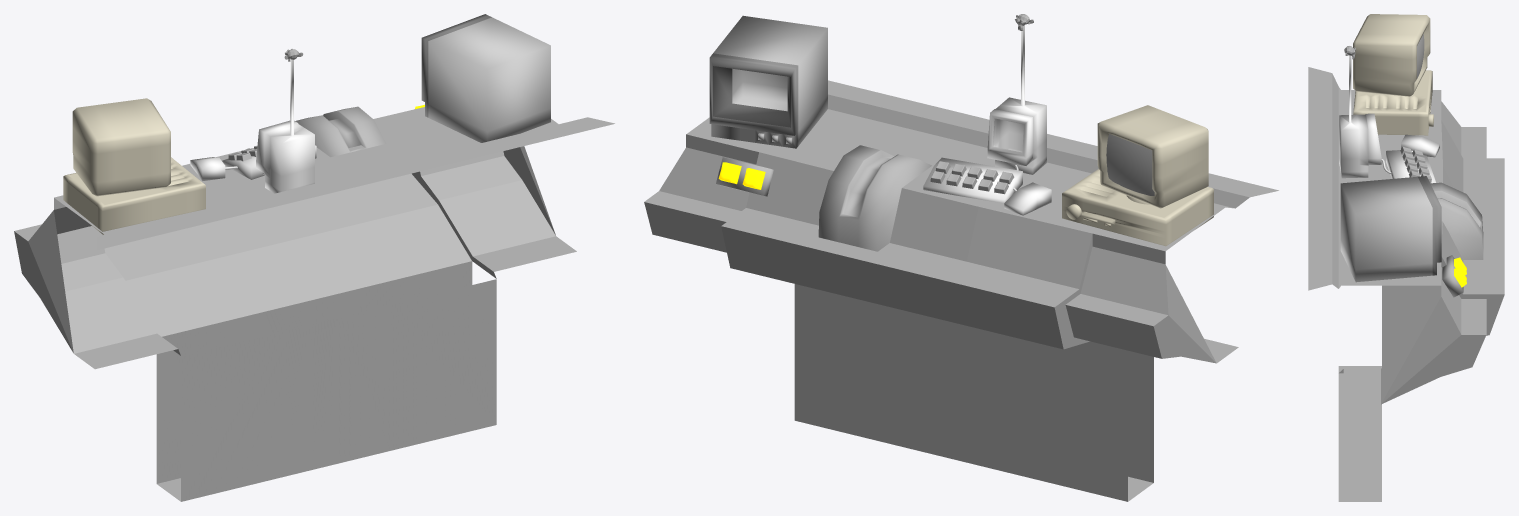
The model's file is PH_CabinControlPost.fbx.
3 views of the same model, side by side, from view 1: azimuth 30°, elevation 25°; view 2: azimuth 150°, elevation 25°; view 3: azimuth 270°, elevation 25° (orthographic). The views are drawn at different scales.
Visible parts, largest first — view 1: MSH_Base; view 2: MSH_Base; view 3: MSH_Base.
Part boxes in pixels (bbox=[...]): MSH_Base: bbox=[14, 14, 614, 501]; MSH_Base: bbox=[644, 14, 1278, 501]; MSH_Base: bbox=[1308, 14, 1504, 501].
Size of the model in its own units: 2.3 by 1.77 by 0.8525.
